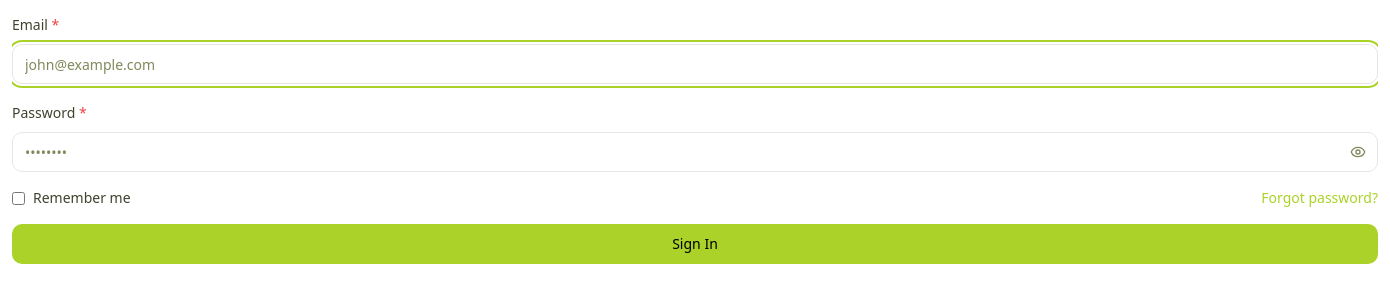
Scenario: LoginForm › strips spaces as they're typed into the password field
This screenshot has width=1390, height=281.
Type "pass word123" into the password field labelled "Password *" at [695, 152], box [12,132,1378,172]
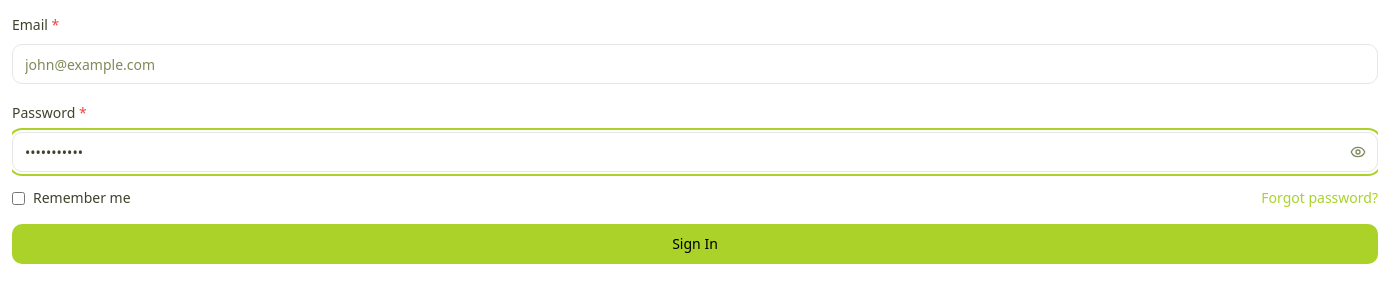
Now the password field labelled "Password *" holds "password123", box [12,132,1378,172]
